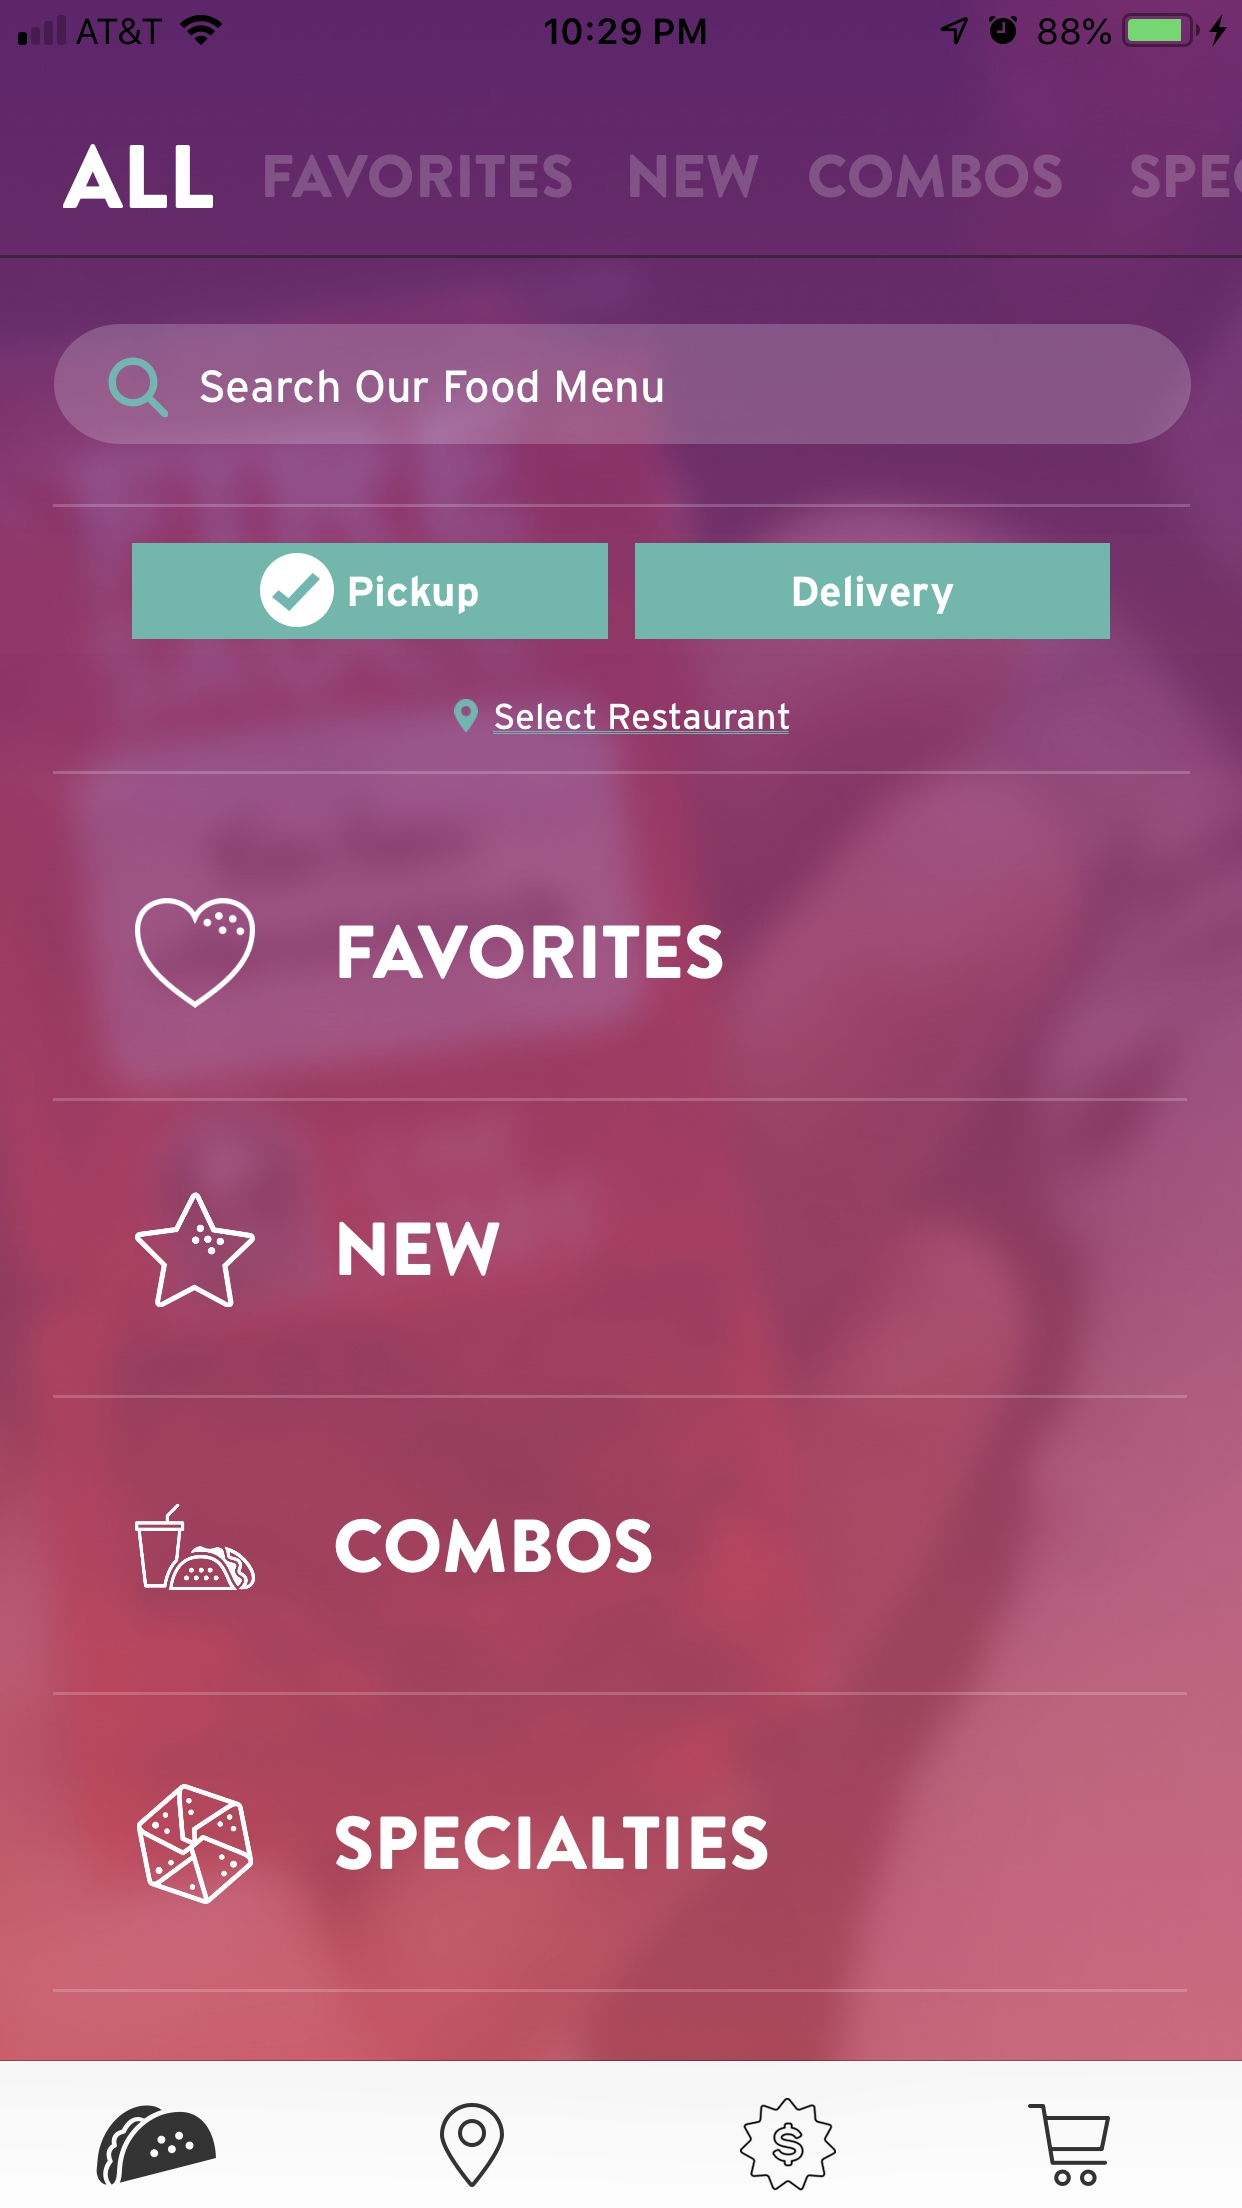BackgroundImage: (2, 2, 1242, 2062)
EditText: (55, 325, 1190, 444)
Icon: (740, 2097, 839, 2191), (1027, 2103, 1112, 2187), (440, 2102, 507, 2188), (108, 356, 170, 419), (453, 698, 481, 734)
Image: (136, 1782, 255, 1905), (135, 1192, 256, 1309), (133, 898, 256, 1010), (135, 1503, 256, 1592), (97, 2103, 218, 2185)
Text: (335, 1815, 769, 1871), (340, 924, 723, 980), (335, 1516, 654, 1574), (202, 370, 664, 403), (265, 155, 573, 200), (808, 155, 1063, 200), (64, 144, 215, 209), (491, 704, 790, 735), (338, 1222, 502, 1277), (629, 155, 760, 200), (1130, 155, 1242, 199)
TextButton: (634, 543, 1112, 641), (132, 543, 610, 641)
UpperTaskBar: (2, 2, 1242, 49)
